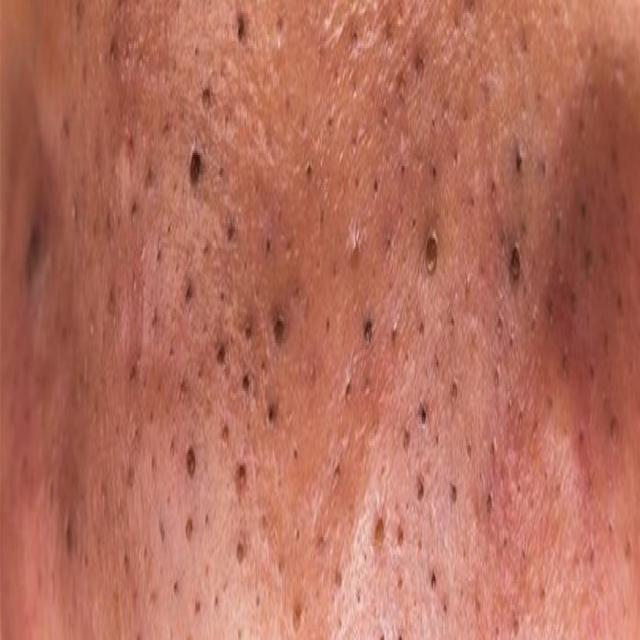dark spot: (420, 230, 446, 285), (506, 228, 525, 303), (188, 134, 208, 200), (371, 498, 391, 560), (237, 358, 253, 418), (357, 307, 377, 354), (410, 52, 430, 98), (272, 298, 286, 361), (262, 396, 280, 441), (424, 560, 442, 601), (233, 450, 247, 502), (212, 339, 228, 384), (418, 396, 433, 443), (236, 7, 249, 60), (182, 438, 198, 476), (182, 280, 200, 310), (242, 307, 253, 354), (415, 474, 426, 512)
